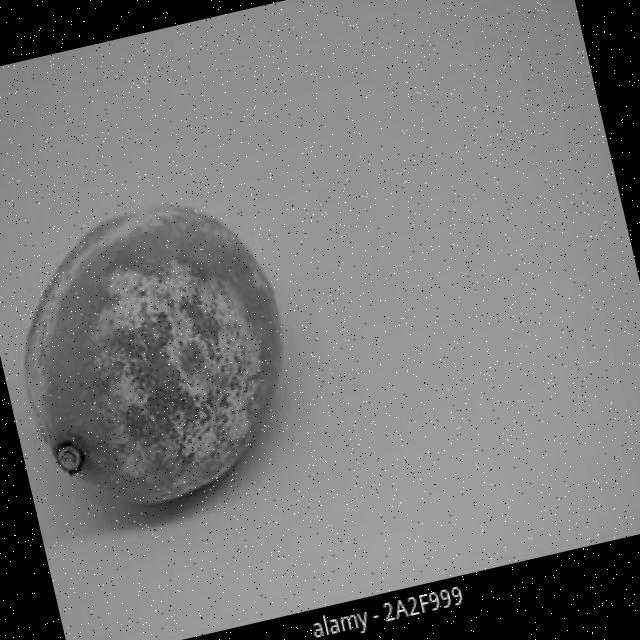Rotten: (0, 176, 313, 529)
